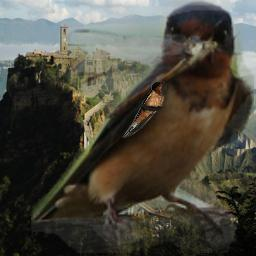Swallow: (31, 0, 254, 253), (121, 80, 166, 138)
